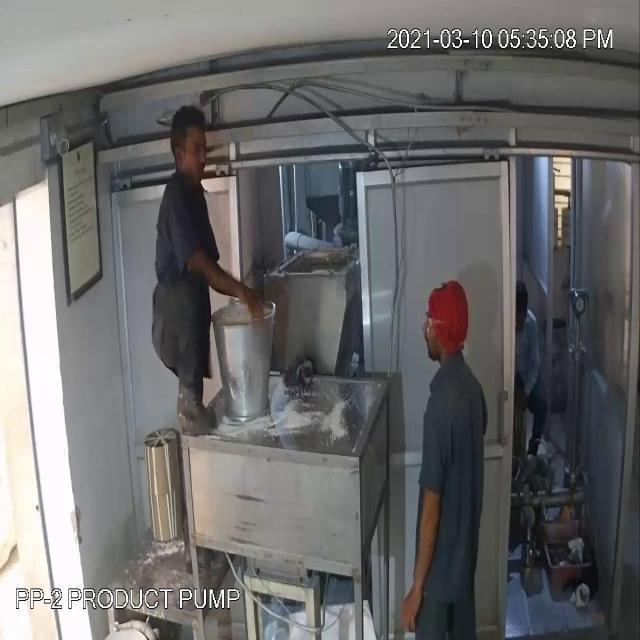No_Gloves: (51, 94, 419, 552)
